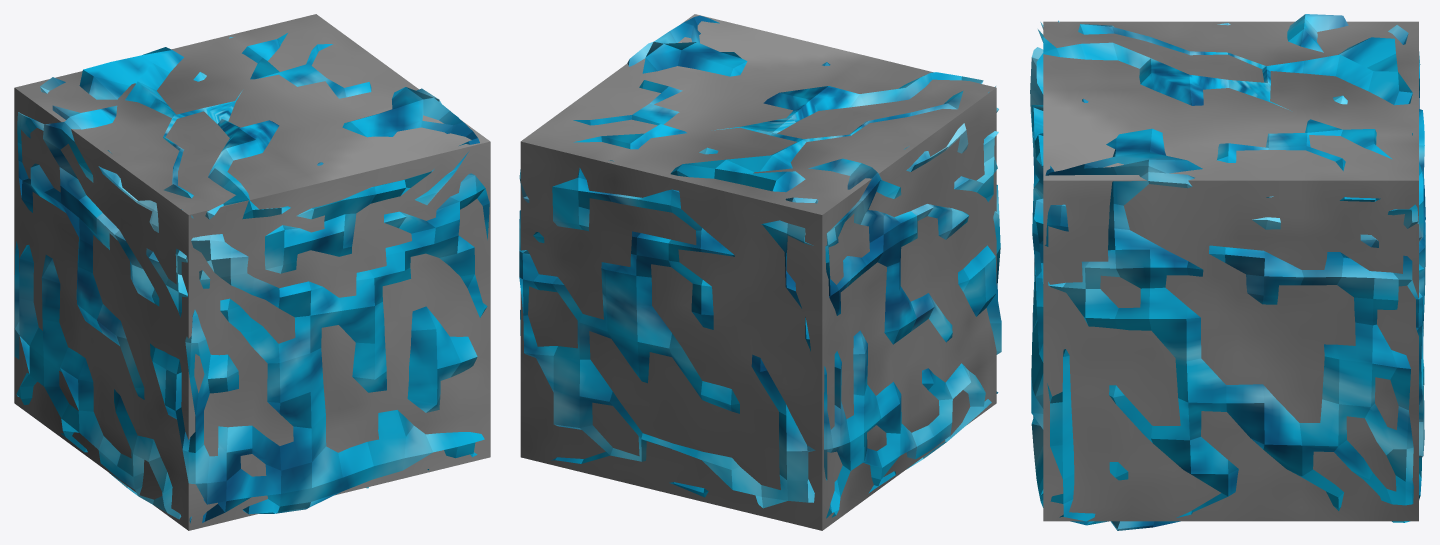
File: CUBE_ANGULAIRE.fbx
3 renders of one model, left to right at view 1: azimuth 30°, elevation 25°; view 2: azimuth 150°, elevation 25°; view 3: azimuth 270°, elevation 25°, orthographic. The views are drawn at different scales.
Visible parts, largest first — view 1: Cube.002; view 2: Cube.002; view 3: Cube.002.
Part boxes in pixels (x1,y1,x2,y2): Cube.002: (14, 14, 490, 530); Cube.002: (519, 14, 1001, 530); Cube.002: (1030, 14, 1425, 530).
Bounding box in the file's own units: 210 × 218 × 211.
